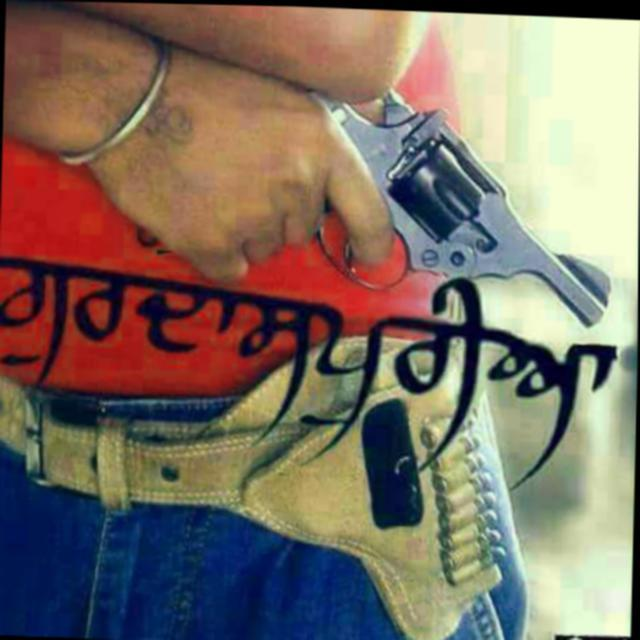weapon: (134, 67, 636, 328)
